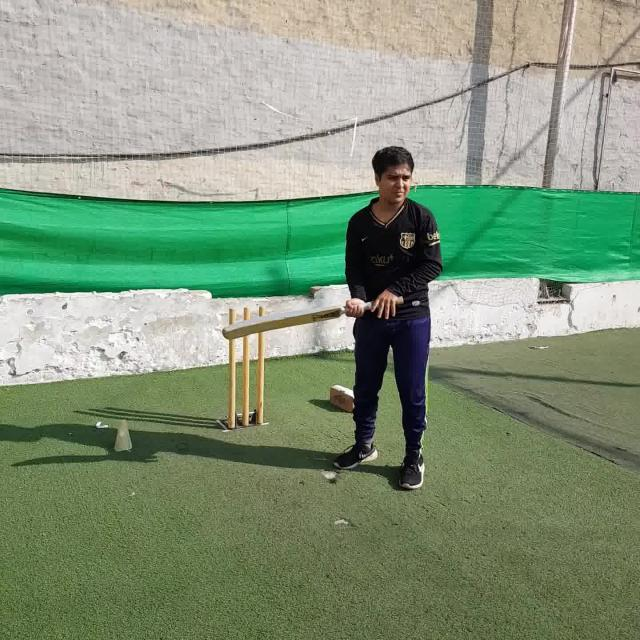bat: (220, 294, 405, 339)
